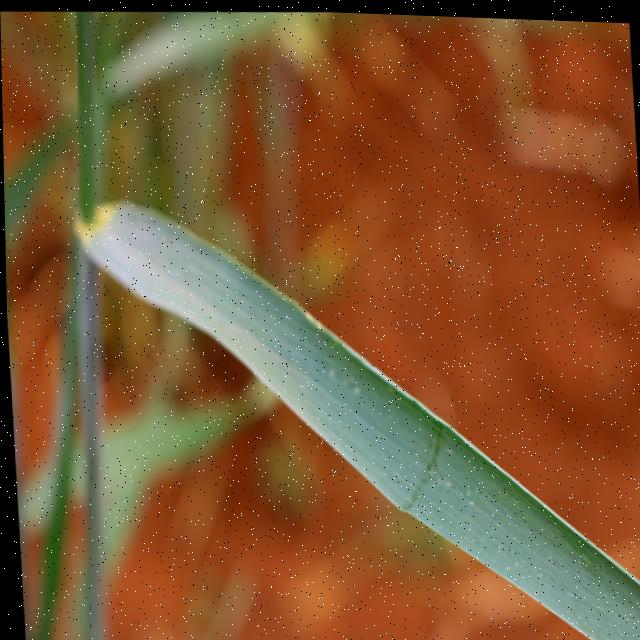healthy_wheat: (42, 154, 640, 640)
